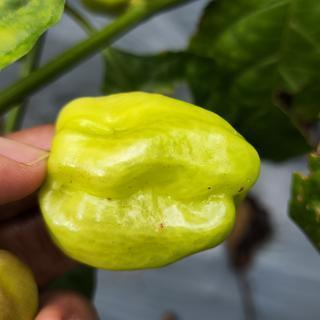Fly-bites: (153, 218, 174, 235), (233, 181, 251, 196), (102, 194, 119, 206), (202, 182, 216, 195)
